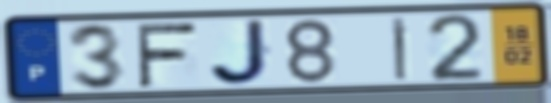2: (424, 11, 486, 83)
3: (64, 20, 127, 92)
8: (280, 16, 340, 86)
F: (132, 20, 200, 90)
I: (389, 15, 411, 83)
J: (206, 17, 276, 88)
